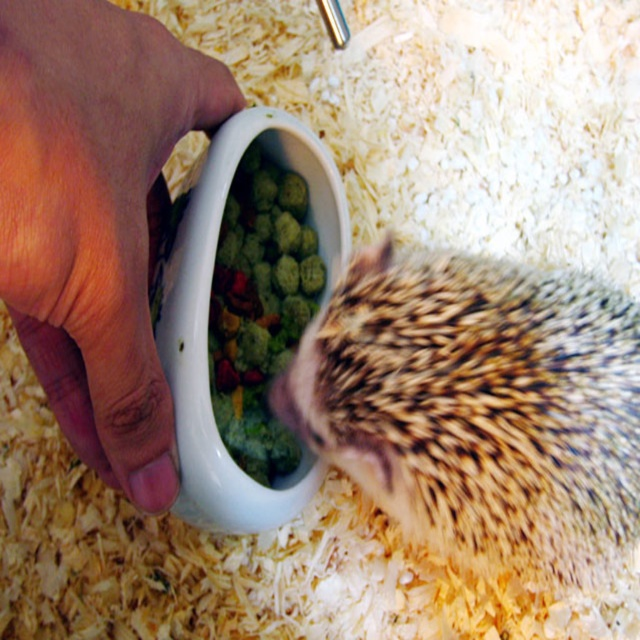Hedgehog: (269, 217, 639, 593)
